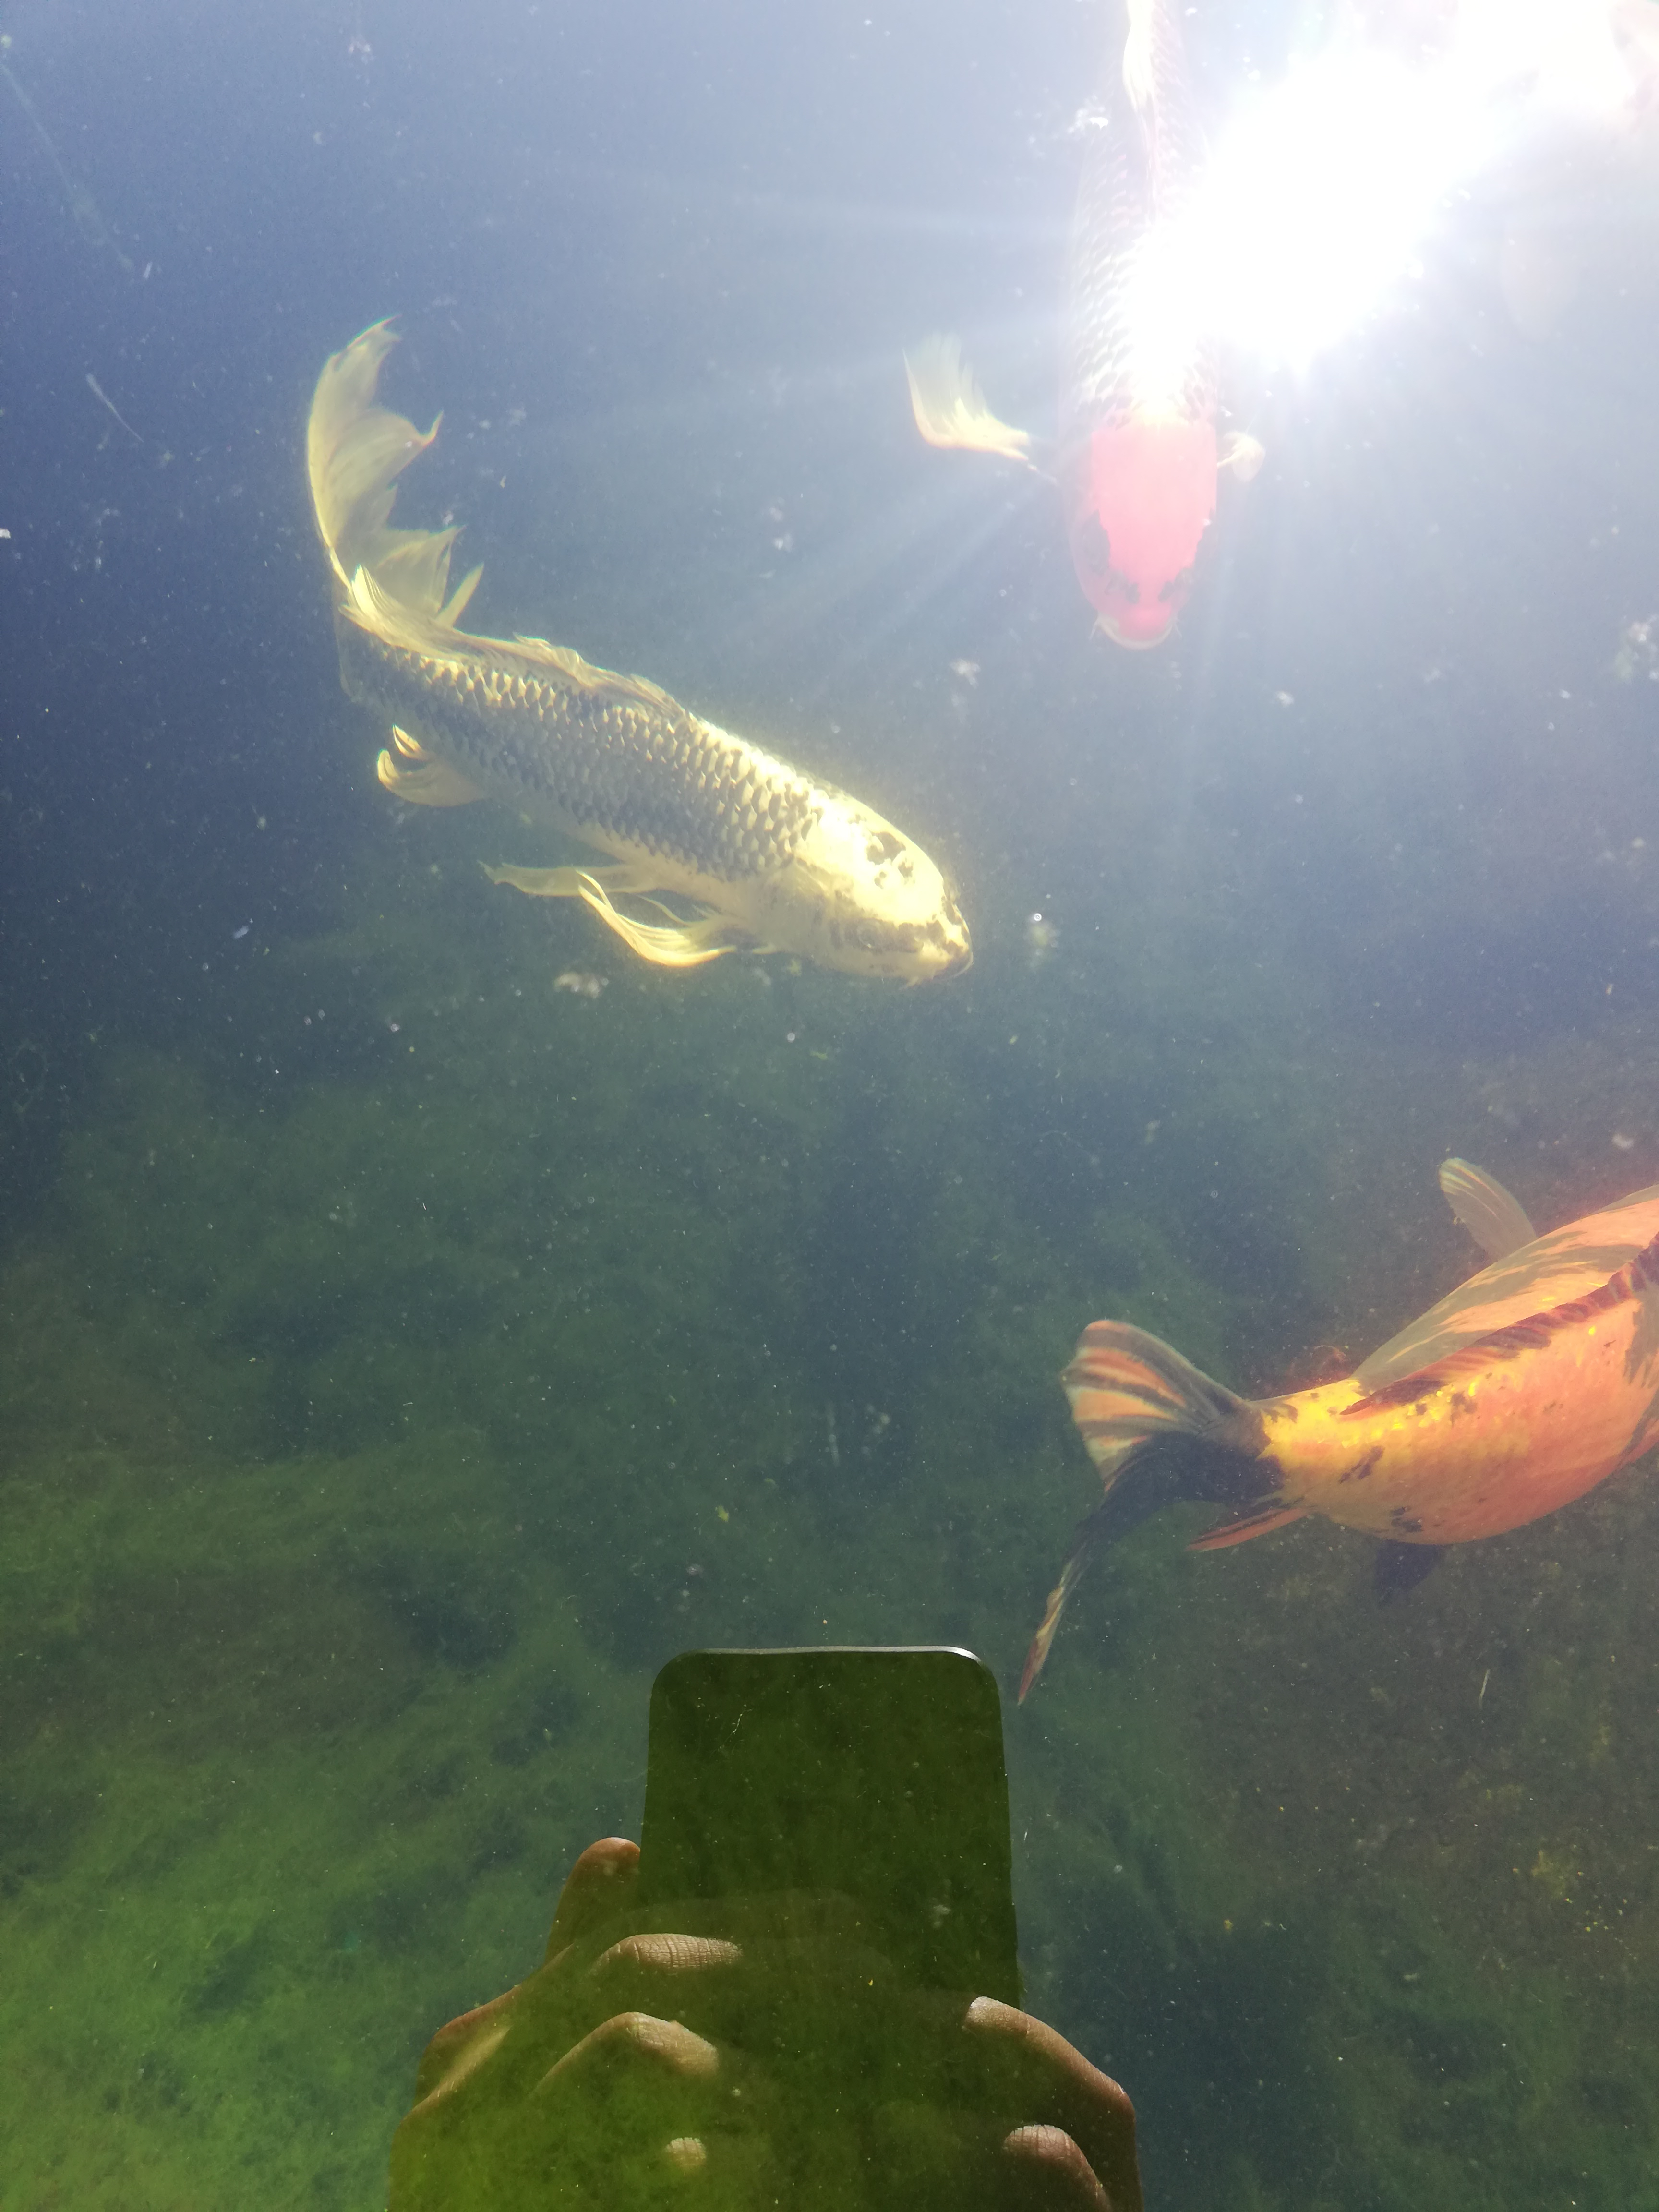Alfred2: (256, 307, 978, 1008)
